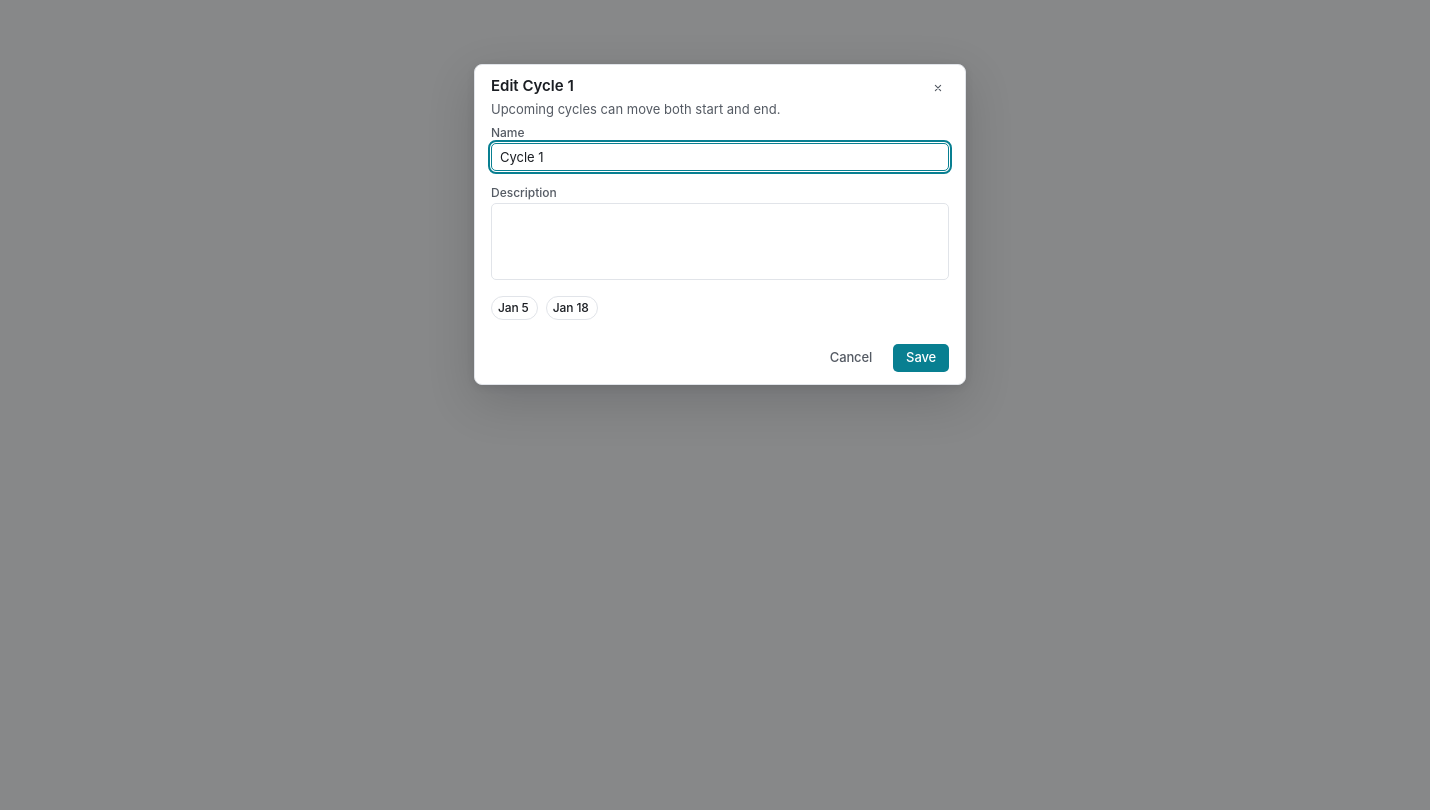
Test: CycleEditModal when the write is refused › stays open and shows the reason
What coordinates should you click on to do the following:
click the button "Save"
I would click on:
 (921, 358)
Its box is [893,344,949,372].
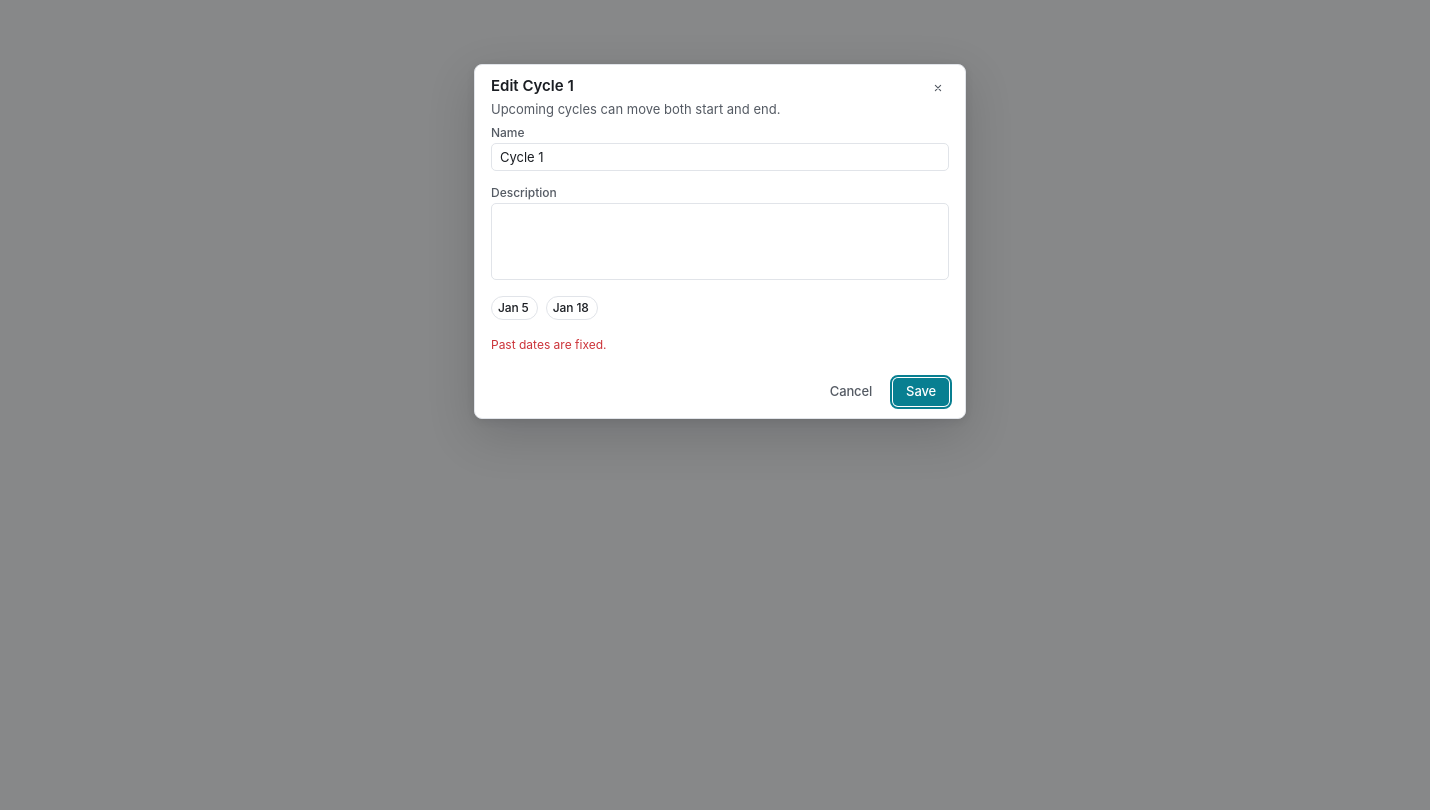
Now the message reads "Past dates are fixed.", box [491,337,606,352]
